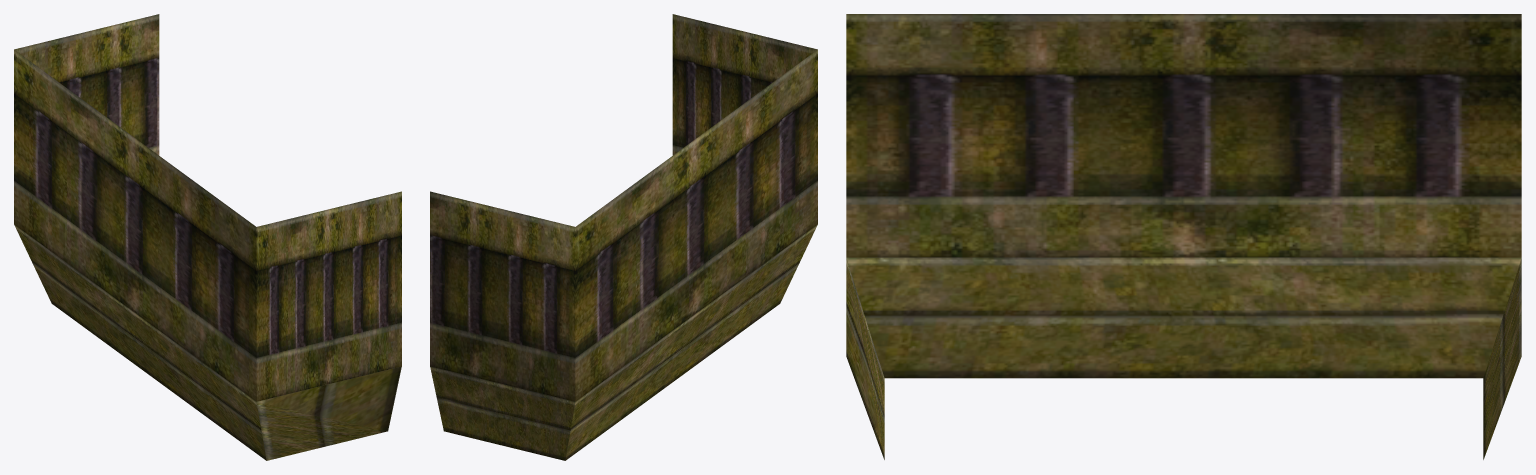
The model's file is OVERHILL_A_01_OBJECT89.fbx.
3 renders of one model, left to right at view 1: azimuth 30°, elevation 25°; view 2: azimuth 150°, elevation 25°; view 3: azimuth 270°, elevation 25°, orthographic. The views are drawn at different scales.
Parts seen in each view (by area): view 1: OVERHILL_A_01_OBJECT89; view 2: OVERHILL_A_01_OBJECT89; view 3: OVERHILL_A_01_OBJECT89.
Part boxes in pixels (bbox=[...]): OVERHILL_A_01_OBJECT89: bbox=[14, 14, 401, 460]; OVERHILL_A_01_OBJECT89: bbox=[430, 14, 817, 460]; OVERHILL_A_01_OBJECT89: bbox=[846, 14, 1521, 459].
Size of the model in its own units: 9153 by 15038 by 26437.
Materials: 2 (2 with a texture image).
